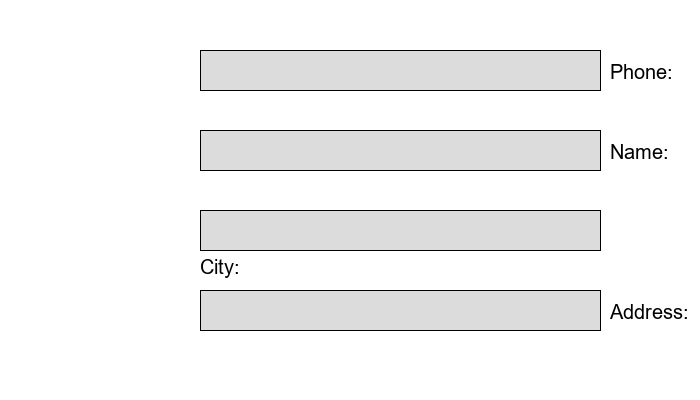Label: (610, 300, 684, 315), (610, 60, 667, 75), (610, 140, 663, 155), (200, 255, 234, 274)
Textbox: (200, 50, 600, 90), (200, 130, 600, 170), (200, 210, 600, 250), (200, 290, 600, 330)
